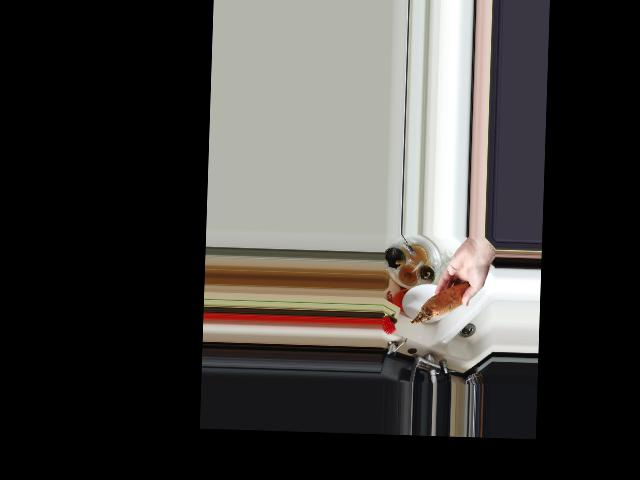sweet_potato: (409, 276, 475, 326)
